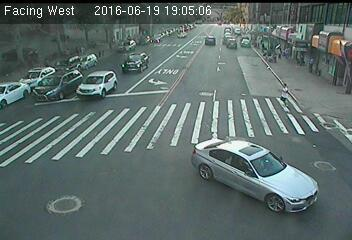neg: (88, 78, 114, 112), (34, 87, 53, 113)
pos: (272, 79, 299, 114)
